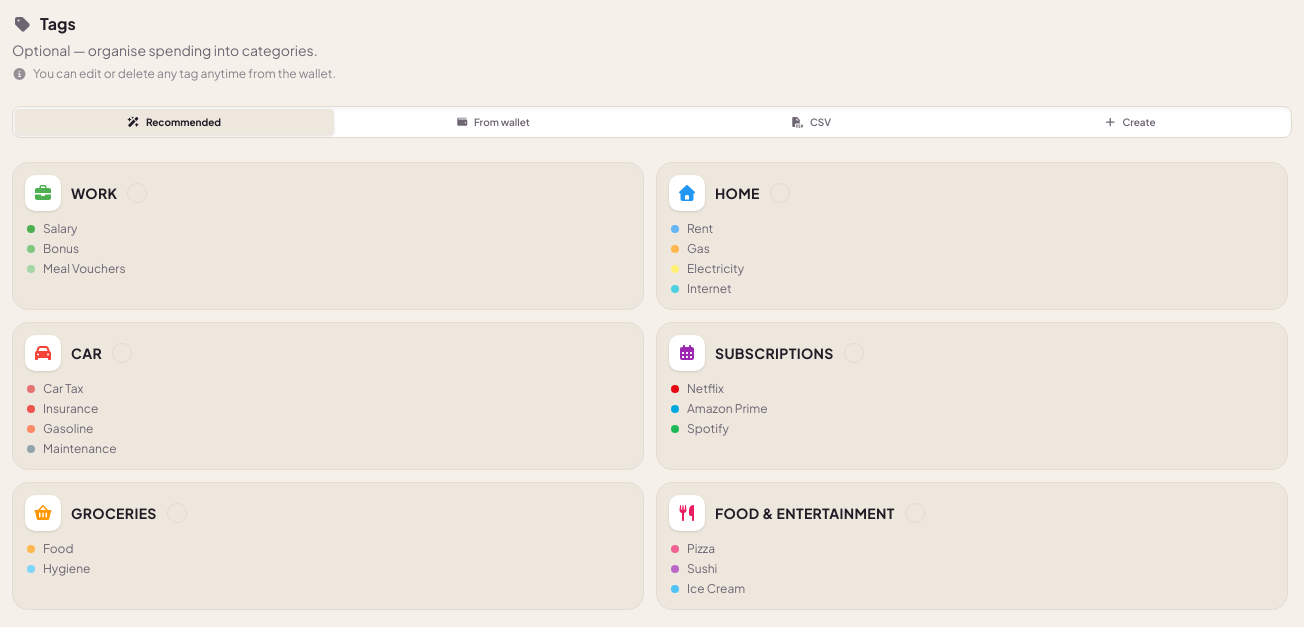
Test: TagsStep — recommended categories › stages a hand-made tag from the Create mode with a Custom origin
Click the button "Create": (1130, 122) [970,109,1289,135]
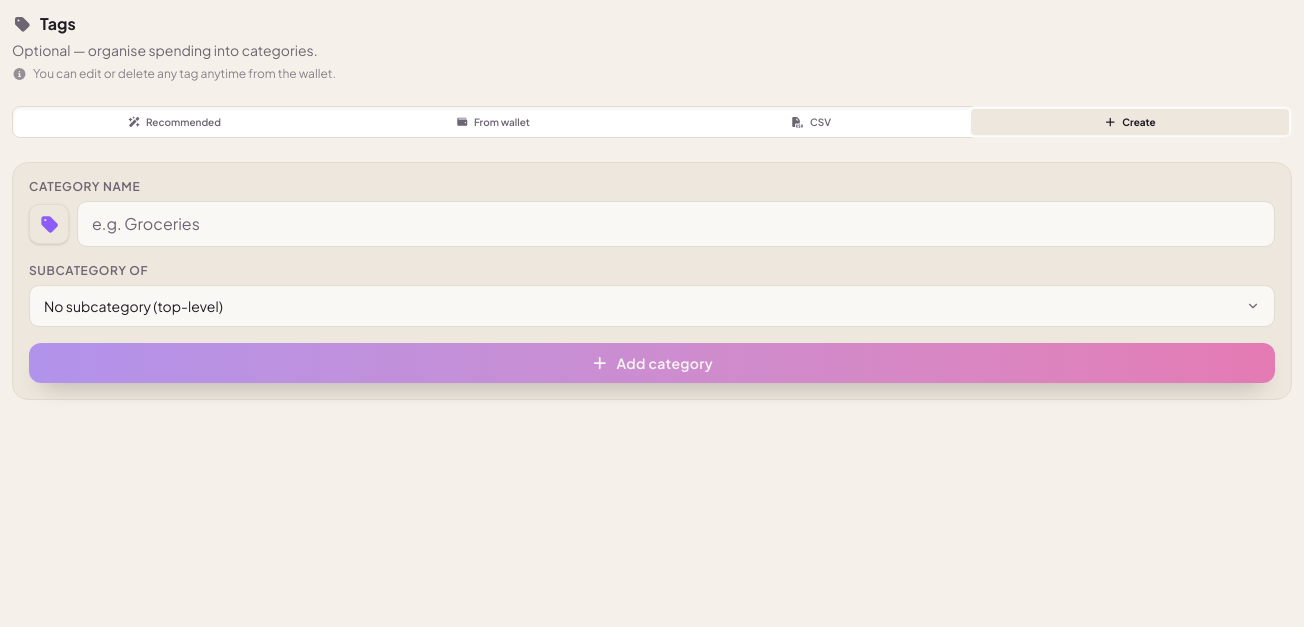
In the field named "category name": (676, 224) [78,202,1274,246], type "Freelancing"
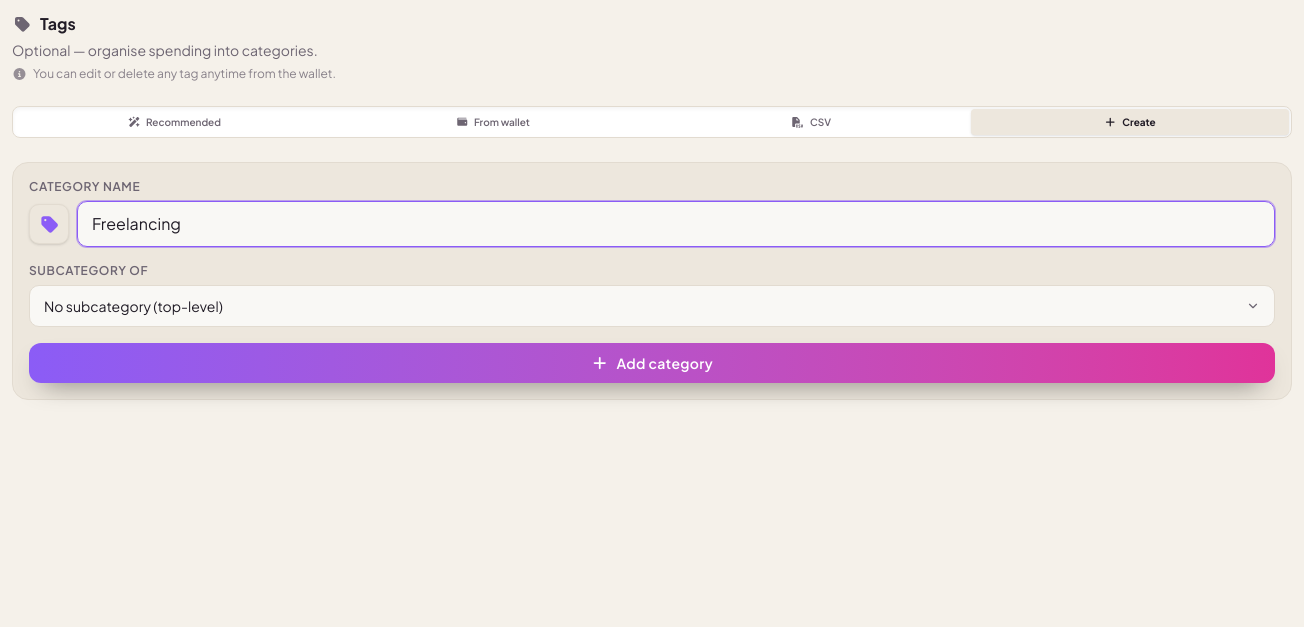
Click the button "Add category": (652, 363) [29,343,1275,383]
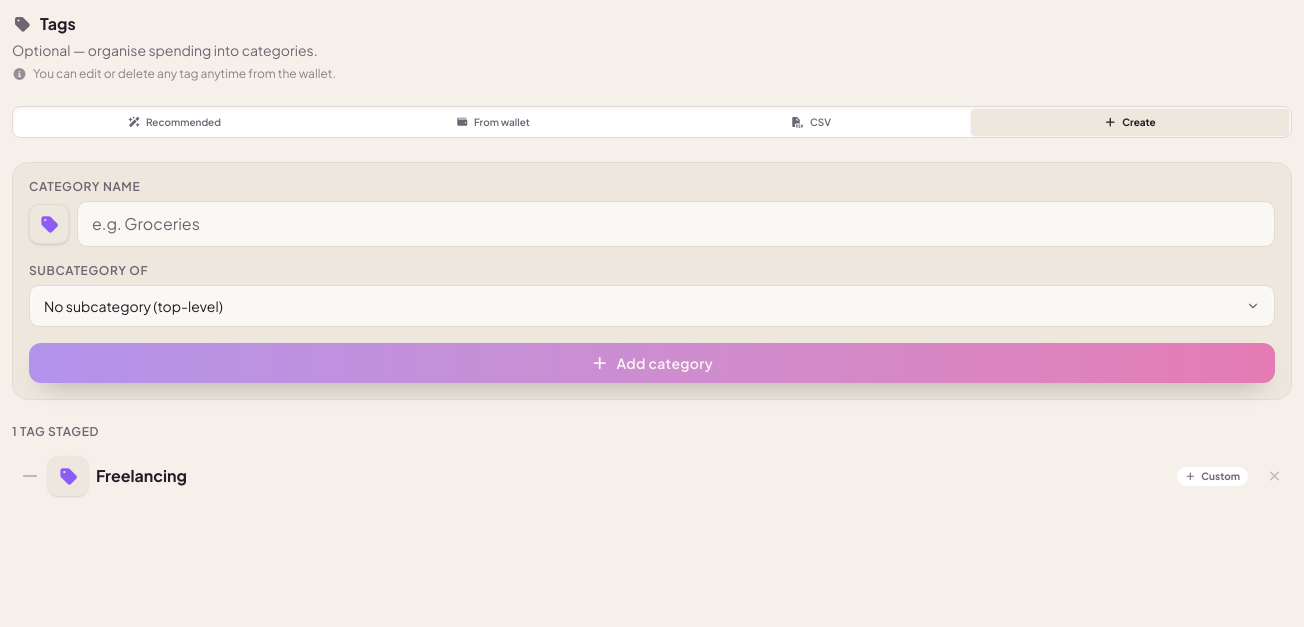
Now the text "Freelancing" is shown, box [96,465,187,486]
Now the text "Custom" is shown, box [1177,466,1248,486]
